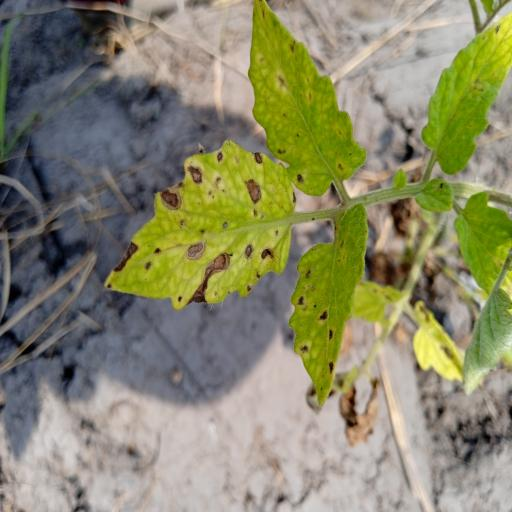Tomato_Brown_Spots: (101, 136, 302, 314), (247, 0, 370, 199), (286, 196, 375, 414), (419, 0, 512, 181)
